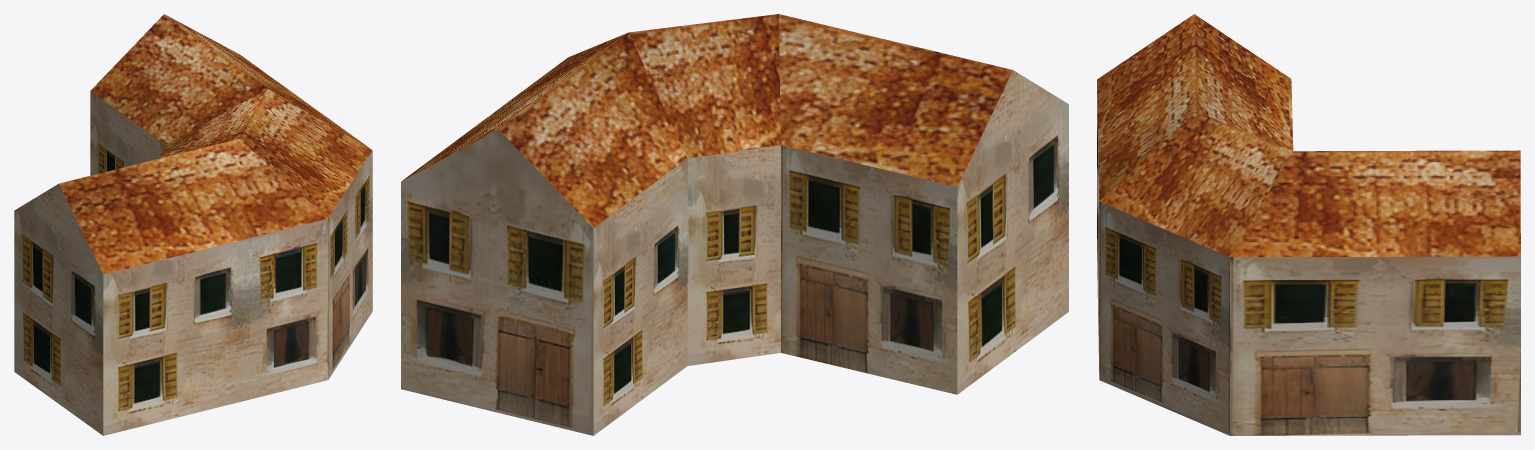
Rendered from lshapevilla.gltf.
The picture shows the model from 3 angles, left to right: view 1: azimuth 30°, elevation 25°; view 2: azimuth 150°, elevation 25°; view 3: azimuth 270°, elevation 25°; orthographic projection. The views are drawn at different scales.
Parts seen in each view (by area): view 1: lshapevilla_atomic0; view 2: lshapevilla_atomic0; view 3: lshapevilla_atomic0.
Part boxes in pixels (x1=…): lshapevilla_atomic0: x1=14, y1=14, x2=372, y2=435; lshapevilla_atomic0: x1=401, y1=14, x2=1068, y2=435; lshapevilla_atomic0: x1=1097, y1=14, x2=1520, y2=435.
Bounding box in the file's own units: 33.14 × 21.12 × 33.26.
Materials: 2 (2 with a texture image).
